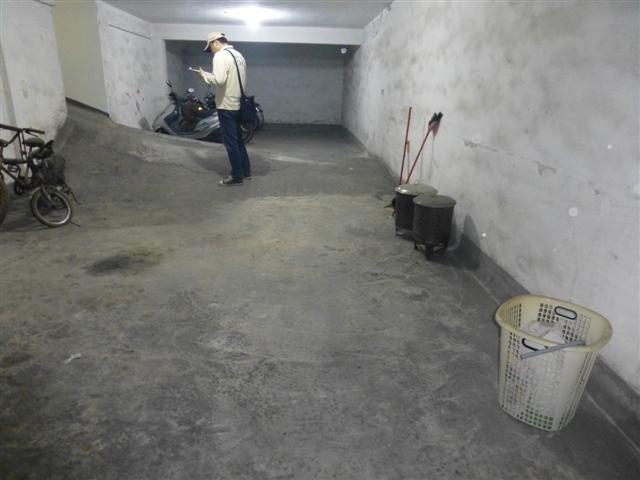bucket: (392, 181, 439, 239), (410, 192, 458, 248)
